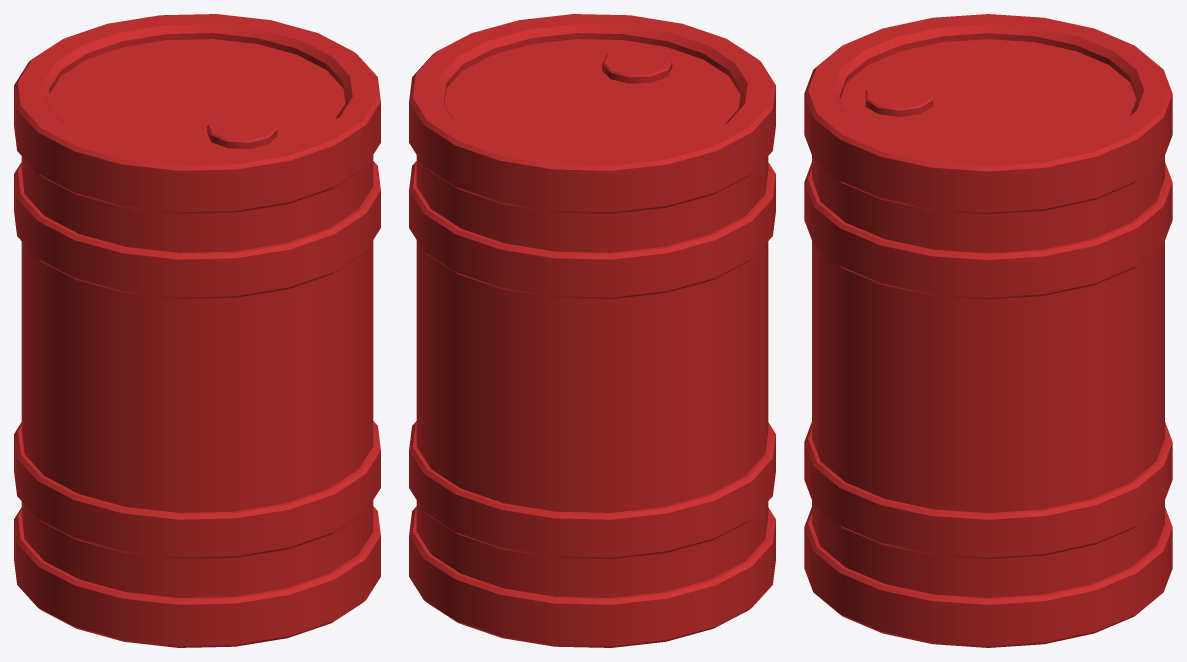
Rendered from SM_Barrel_S.fbx.
3 views of the same model, side by side, from view 1: azimuth 30°, elevation 25°; view 2: azimuth 150°, elevation 25°; view 3: azimuth 270°, elevation 25° (orthographic).
Visible parts, largest first — view 1: S_Barrel; view 2: S_Barrel; view 3: S_Barrel.
Part boxes in pixels (bbox=[...]): S_Barrel: bbox=[14, 14, 380, 647]; S_Barrel: bbox=[409, 14, 775, 647]; S_Barrel: bbox=[804, 14, 1172, 647].
Bounding box in the file's own units: 41.6 × 60 × 41.6.
